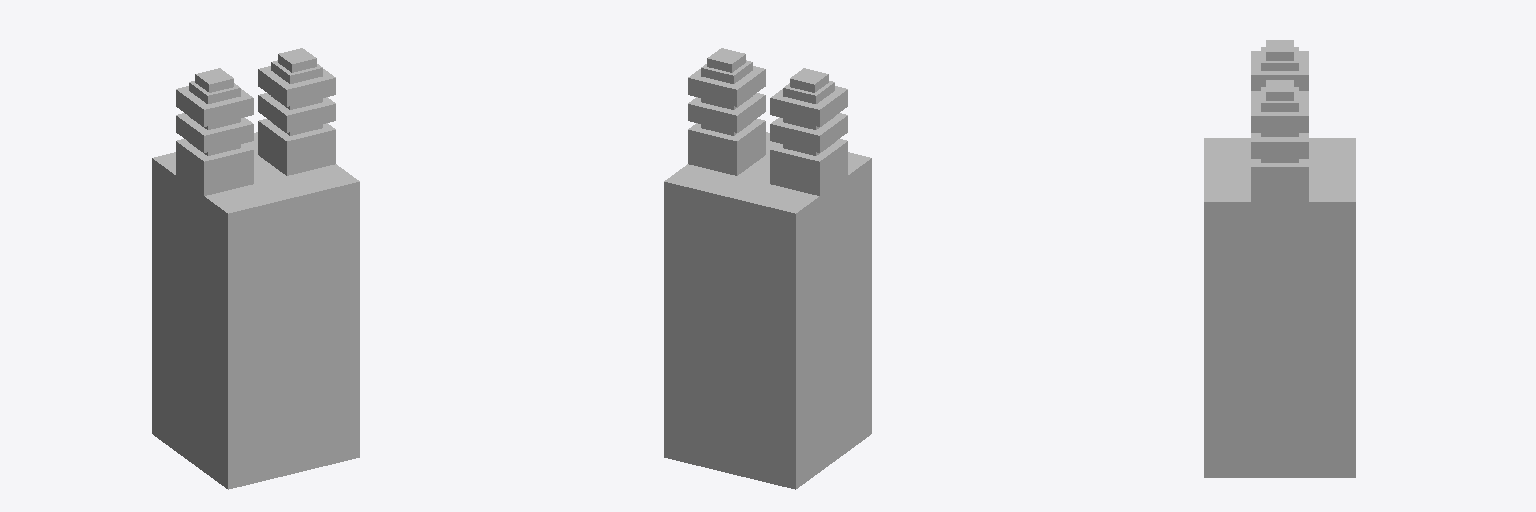
Rendered from transformer_af_right.obj.
3 views of the same model, side by side, from view 1: azimuth 30°, elevation 25°; view 2: azimuth 150°, elevation 25°; view 3: azimuth 270°, elevation 25° (orthographic).
Visible parts, largest first — view 1: block; view 2: block; view 3: block.
Boxes of the visible parts, <box> form: block: <box>152,48,359,489</box>; block: <box>664,48,871,489</box>; block: <box>1204,40,1355,477</box>.
Bounding box in the file's own units: 1 × 2.75 × 1.